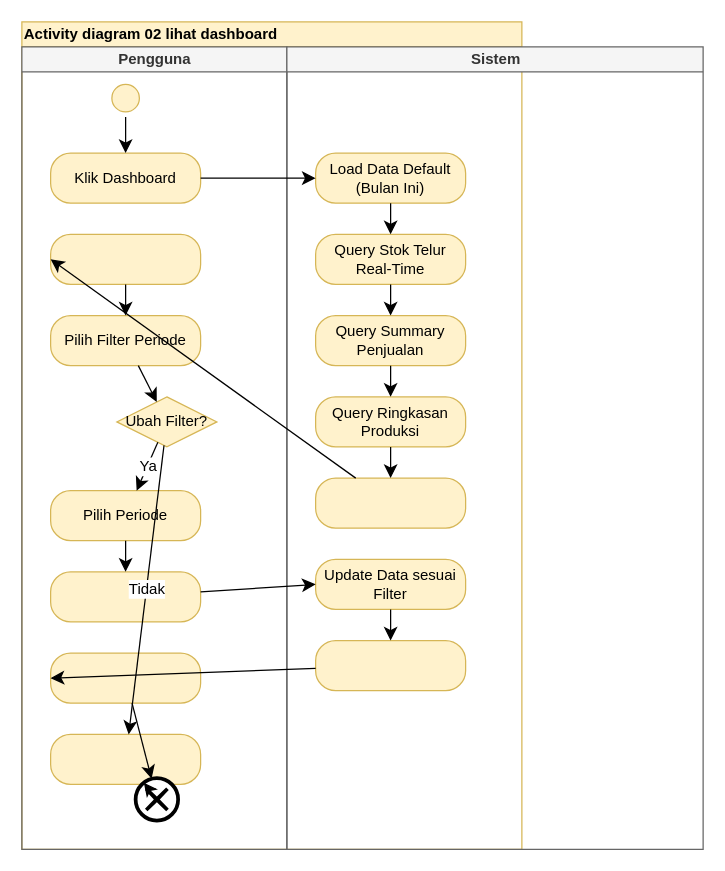
Image size: 725x871. Some labels were removed from this diagram. Each missing label, with the box of its shape:
Klik Apply Filter: (49, 571, 201, 622)
Lihat Data Terupdate: (49, 652, 201, 703)
Lihat Ringkasan Data: (49, 233, 201, 284)
Render Dashboard: (314, 477, 466, 528)
Render Dashboard Baru: (314, 639, 466, 691)
Selesai: (49, 733, 201, 784)
